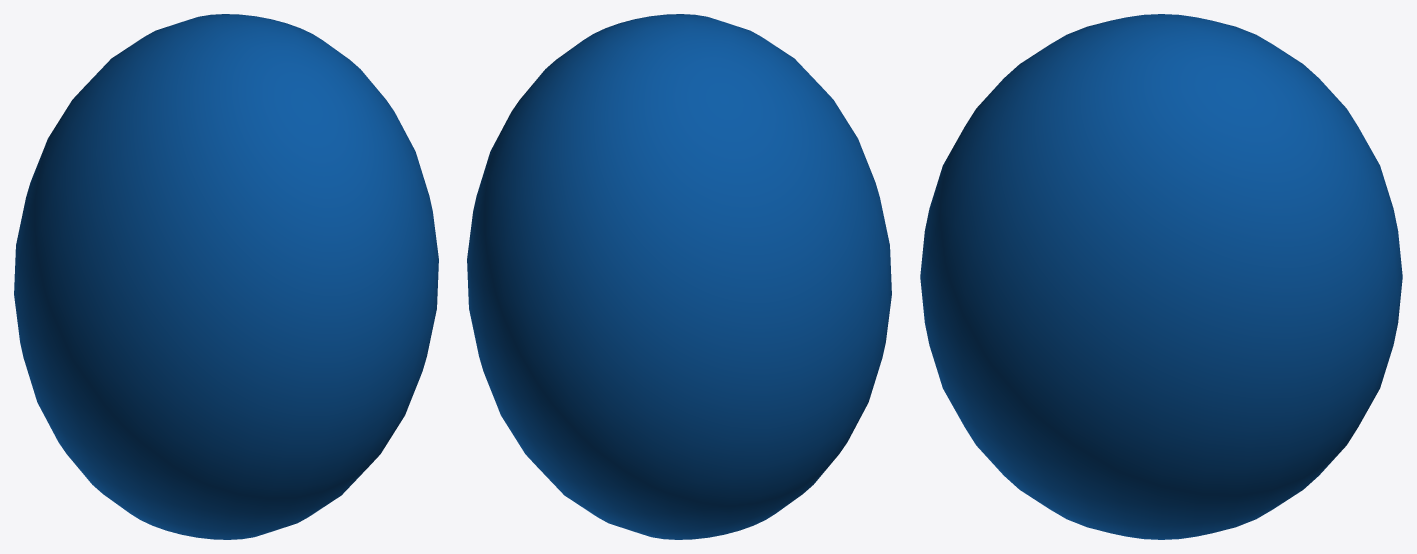
File: Sheild_PickUp.FBX
The picture shows the model from 3 angles, left to right: view 1: azimuth 30°, elevation 25°; view 2: azimuth 150°, elevation 25°; view 3: azimuth 270°, elevation 25°; orthographic projection. The views are drawn at different scales.
Visible parts, largest first — view 1: Sphere001; view 2: Sphere001; view 3: Sphere001.
Boxes of the visible parts, x1,y1,x2,y2 form: Sphere001: [14, 14, 438, 539]; Sphere001: [467, 14, 891, 539]; Sphere001: [920, 14, 1402, 539].
Bounding box in the file's own units: 111 × 143 × 124.
